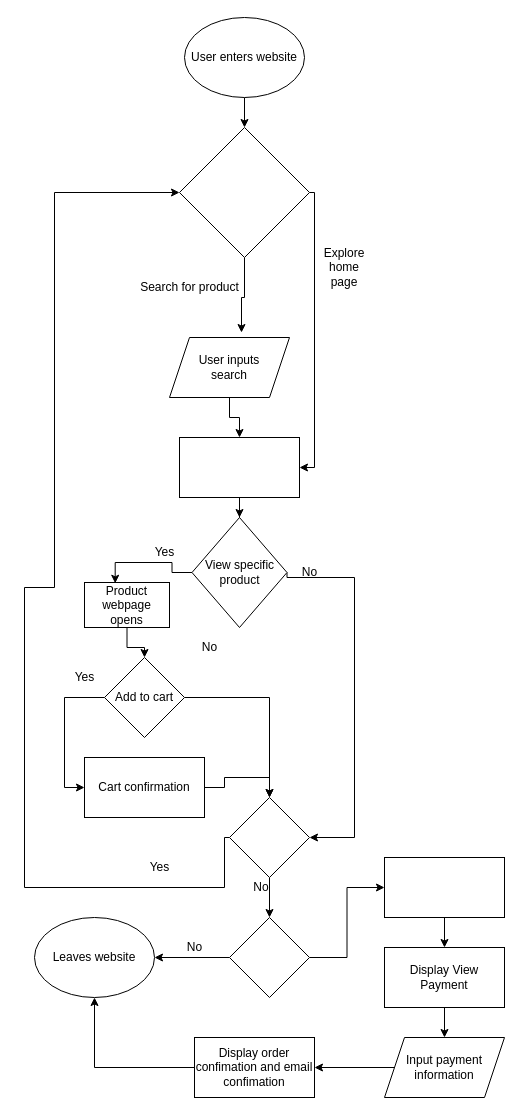
Image size: 522x1115. Some labels were removed from this diagram. Here are the shapes that lost their labels. From the top down, the centre of each, then its label:
At point 244,192: "Search for product or explore home page".
At point 239,467: "User looks over products".
At point 269,837: "Continue shopping?".
At point 444,887: "Display View Cart screen".
At point 269,957: "Checkout?".
